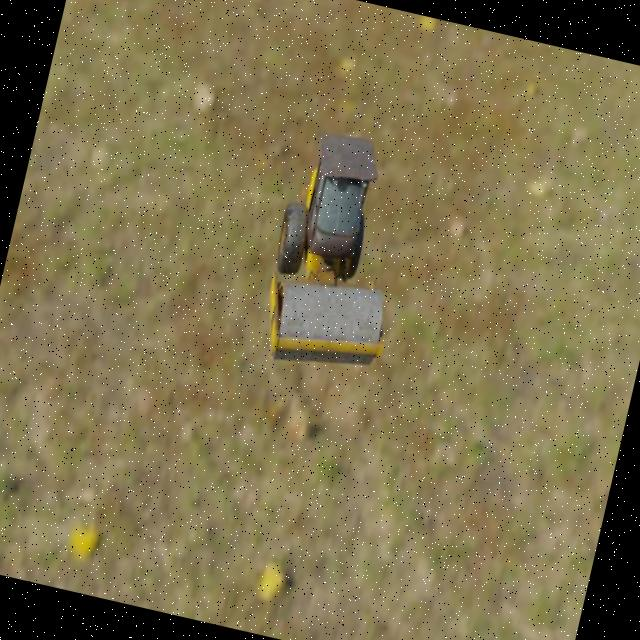Roller: (251, 123, 427, 382)
